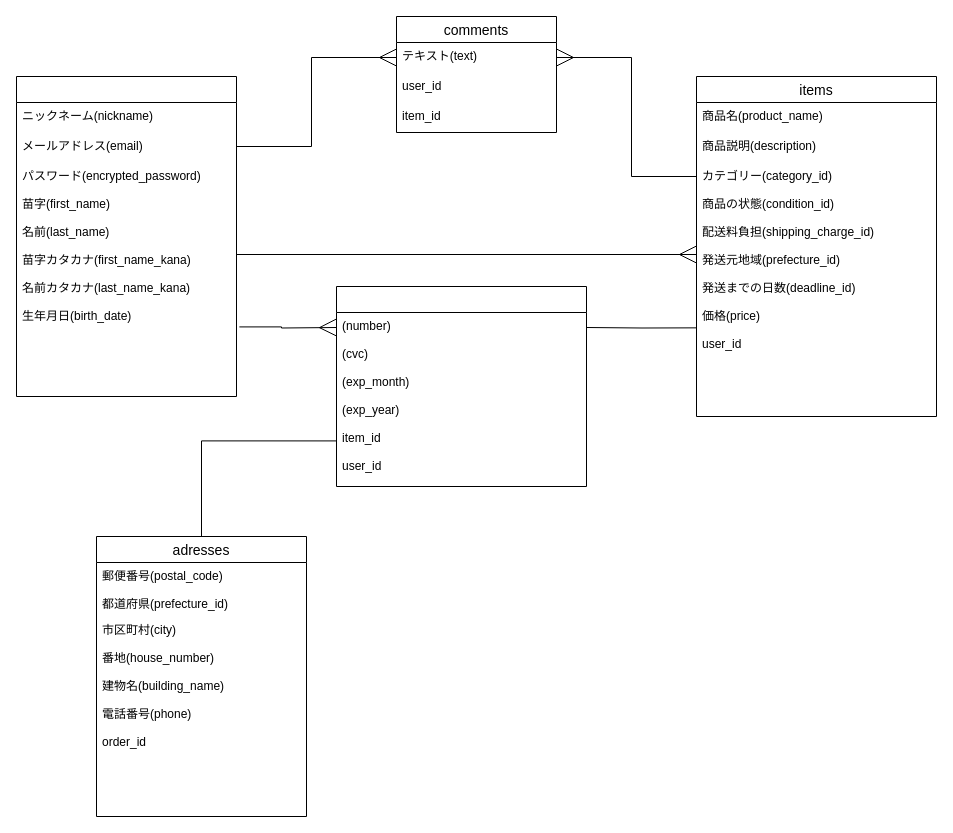
This 953x833 diagram has some shape labels left out. The box of each missing label's shape, as (x1, y1, x2, y2) in pixels:
orders: (336, 286, 586, 486)
Users: (16, 76, 236, 396)
